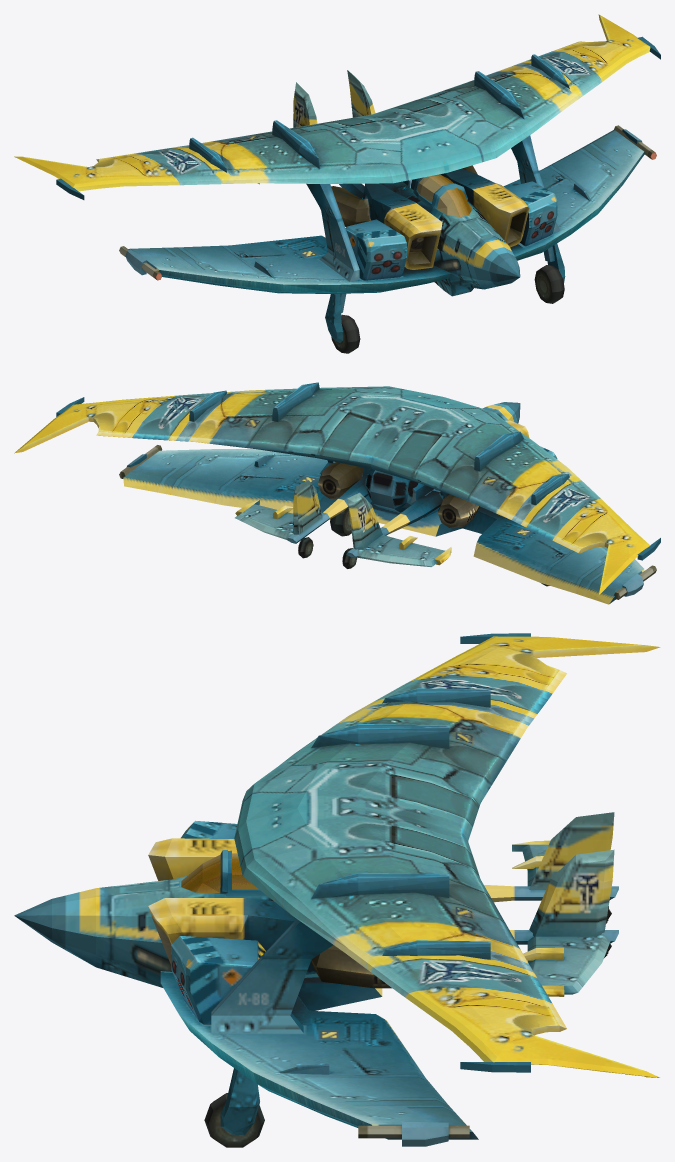
File: VXFTRH.bgf.obj
The picture shows the model from 3 angles, top to bottom: view 1: azimuth 30°, elevation 25°; view 2: azimuth 150°, elevation 25°; view 3: azimuth 270°, elevation 25°; orthographic projection. The views are drawn at different scales.
Visible parts, largest first — view 1: VXFTR, ROCKETPOD01, ROCKETPOD, CANOPY, L_WHEEL_A, RUDDER_R, RUDDER_L, R_SUPPORT, R_WHEEL_A; view 2: VXFTR, TURRET, RUDDER_R, RUDDER_L, L_WHEEL_A; view 3: VXFTR, RUDDER_L, ROCKETPOD, RUDDER_R, L_SUPPORT, CANOPY, L_WHEEL_A, ROCKETPOD01.
Part boxes in pixels (x1,y1,x2,y2): VXFTR: [14, 14, 660, 296]; ROCKETPOD01: [345, 219, 406, 280]; ROCKETPOD: [506, 181, 557, 246]; CANOPY: [417, 174, 472, 216]; L_WHEEL_A: [534, 265, 564, 303]; RUDDER_R: [293, 82, 317, 127]; RUDDER_L: [347, 70, 375, 117]; R_SUPPORT: [325, 293, 346, 342]; R_WHEEL_A: [331, 314, 360, 353]; VXFTR: [14, 382, 660, 604]; TURRET: [366, 469, 418, 512]; RUDDER_R: [347, 492, 382, 549]; RUDDER_L: [293, 480, 322, 534]; L_WHEEL_A: [330, 509, 351, 536]; VXFTR: [14, 633, 660, 1146]; RUDDER_L: [529, 849, 614, 936]; ROCKETPOD: [171, 936, 265, 1024]; RUDDER_R: [529, 812, 614, 889]; L_SUPPORT: [220, 1068, 259, 1135]; CANOPY: [181, 853, 258, 893]; L_WHEEL_A: [204, 1093, 264, 1147]; ROCKETPOD01: [181, 820, 237, 838].
Size of the model in its own units: 16.73 by 4.88 by 10.59.
Materials: 14 (14 with a texture image).
